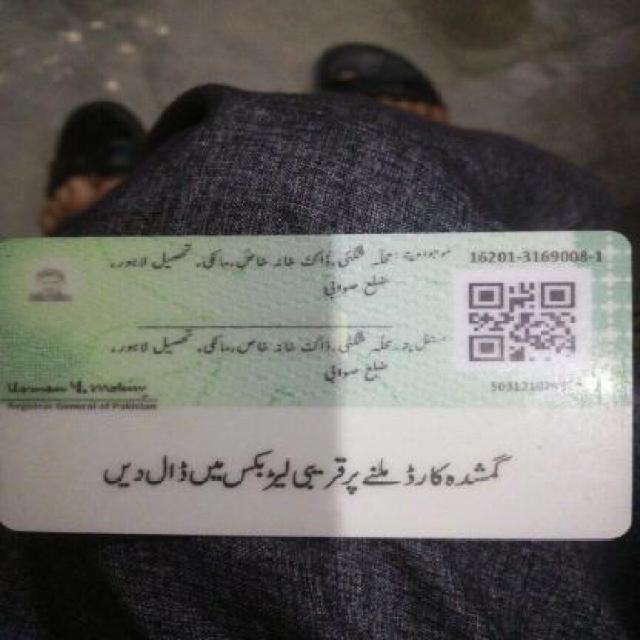Back: (3, 228, 632, 544)
